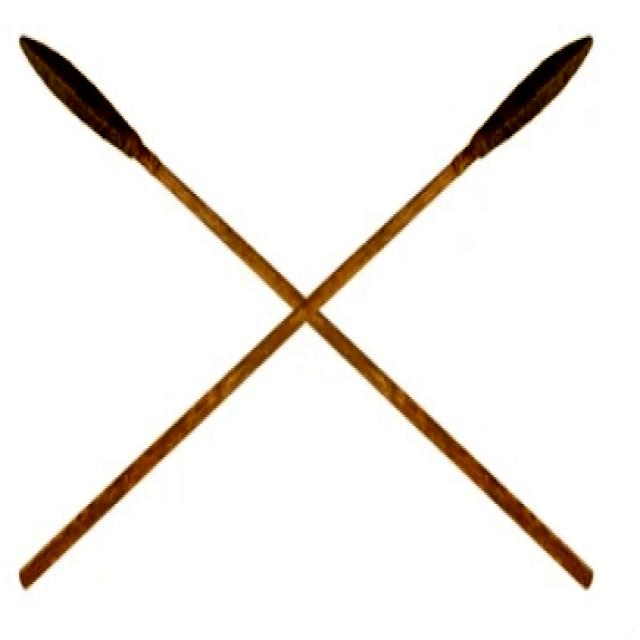spear: (6, 9, 607, 610)
